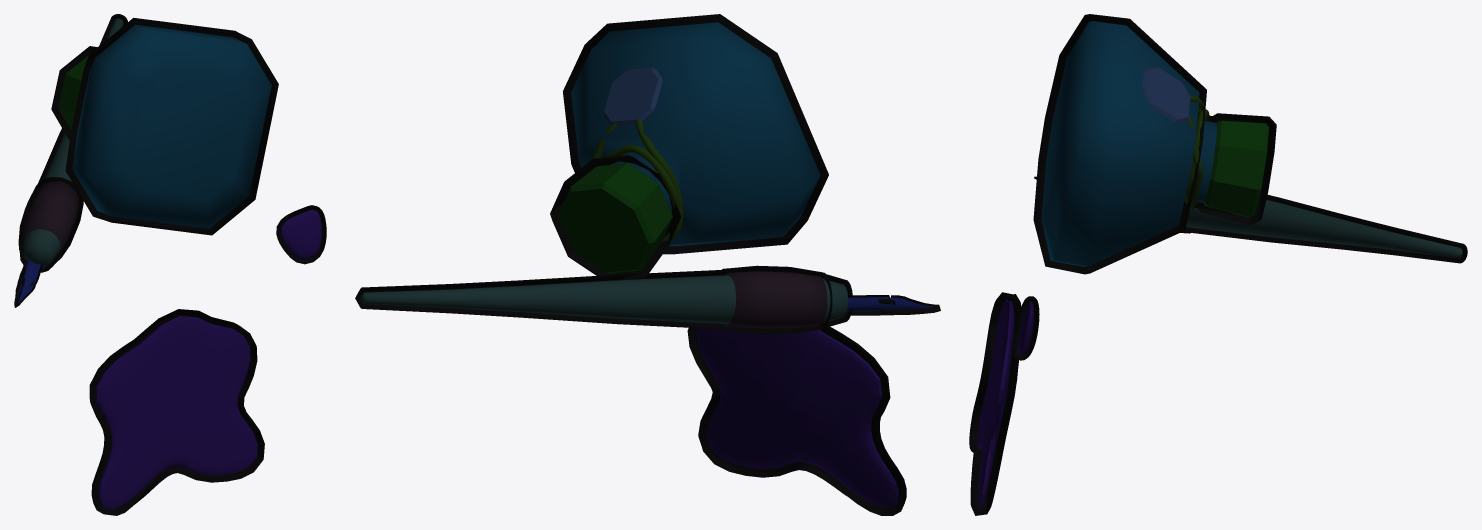
The model's file is ink.gltf.
3 renders of one model, left to right at view 1: azimuth 30°, elevation 25°; view 2: azimuth 150°, elevation 25°; view 3: azimuth 270°, elevation 25°, orthographic. The views are drawn at different scales.
Parts seen in each view (by area): view 1: bottle, outline; view 2: bottle, outline; view 3: bottle, outline.
Boxes of the visible parts, x1=… form: bottle: x1=18, y1=18, x2=321, y2=508; outline: x1=14, y1=14, x2=326, y2=515; bottle: x1=360, y1=22, x2=934, y2=507; outline: x1=355, y1=14, x2=940, y2=515; bottle: x1=977, y1=21, x2=1462, y2=508; outline: x1=969, y1=14, x2=1467, y2=515.
Size of the model in its own units: 4.94 by 6.63 by 6.18.
